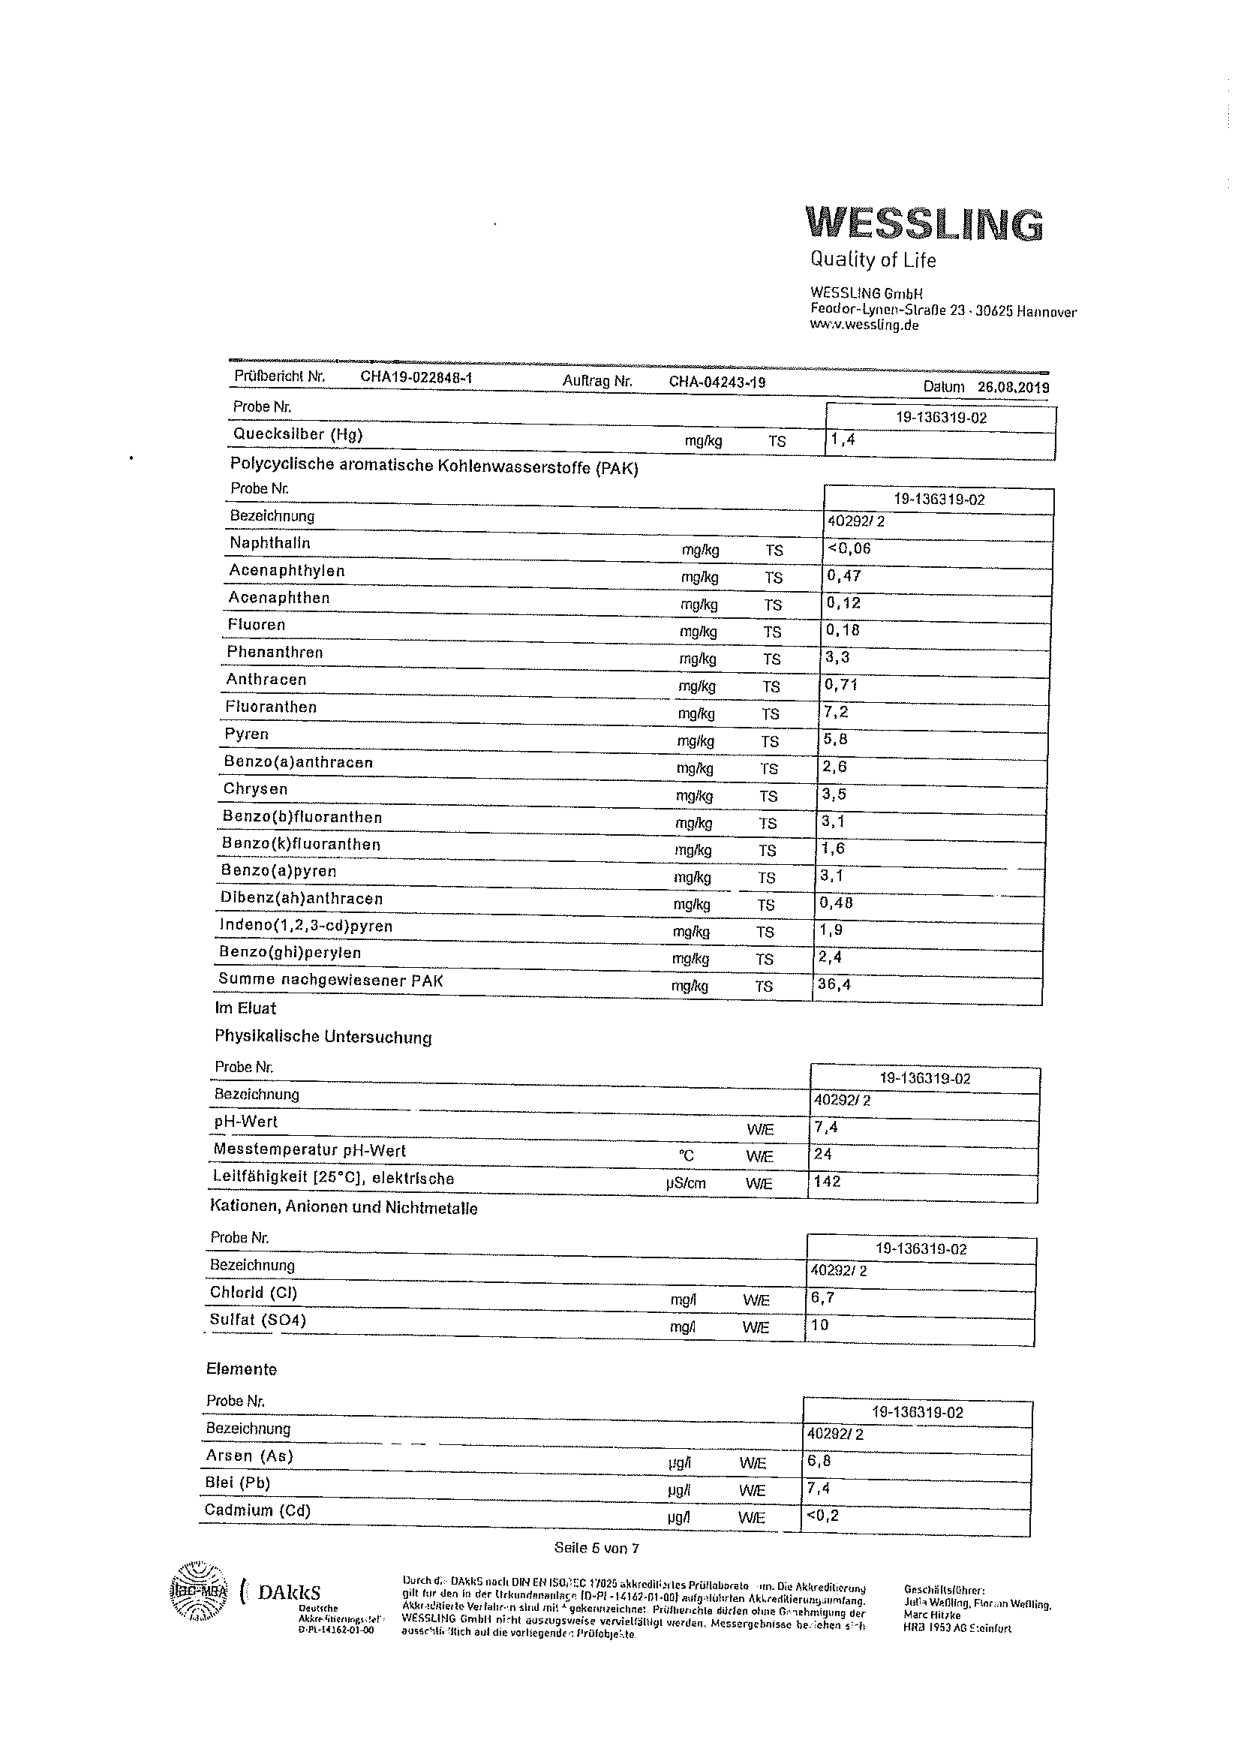table: (192, 393, 1066, 996), (175, 1055, 1088, 1222), (180, 1387, 1050, 1555), (185, 1229, 1050, 1354)
